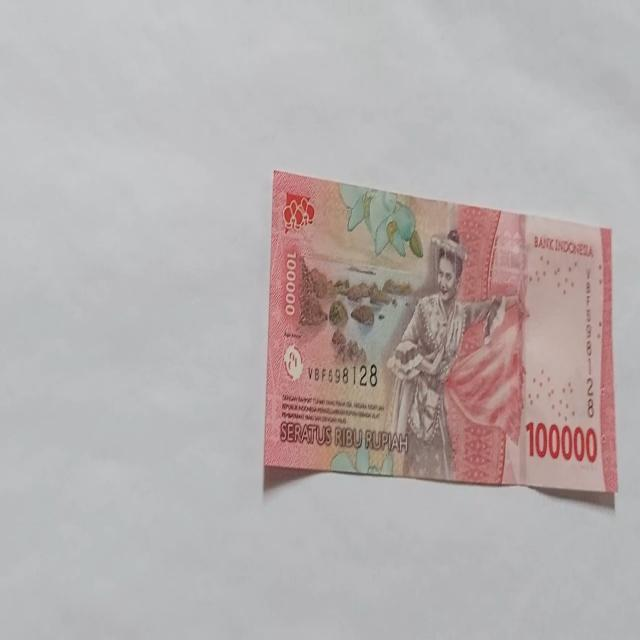seratus ribu rupiah: (264, 170, 617, 502), (384, 227, 508, 481)
